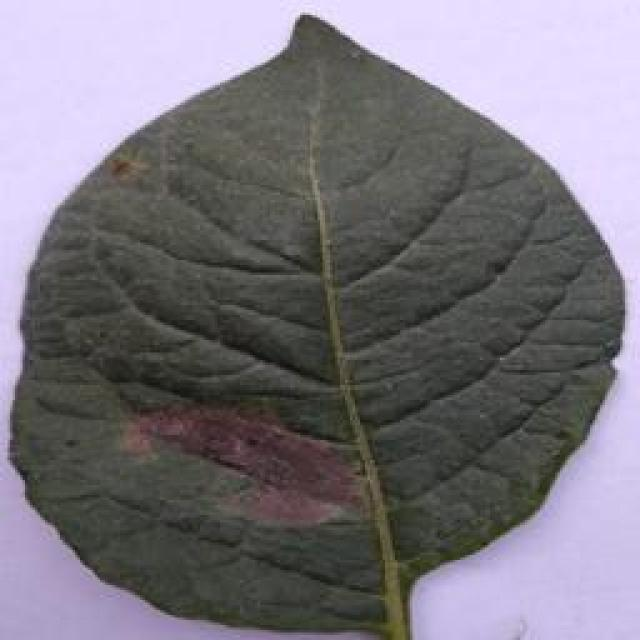Potato_Late_Blight: (0, 0, 625, 622)
